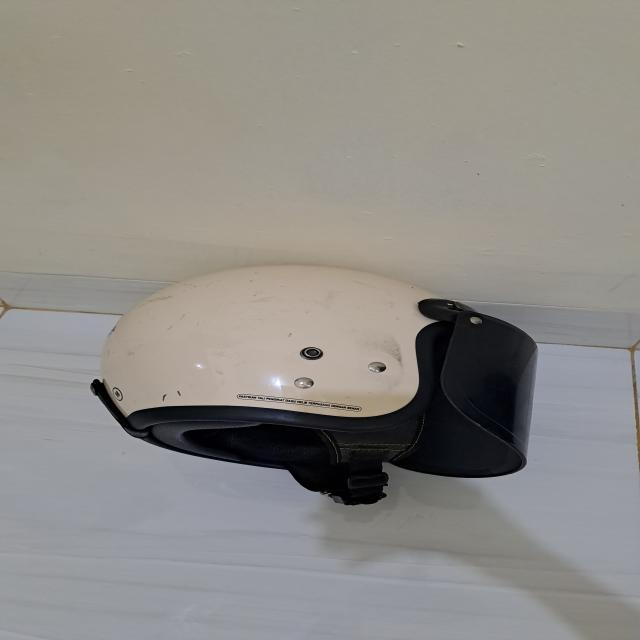Helm: (72, 255, 541, 528)
